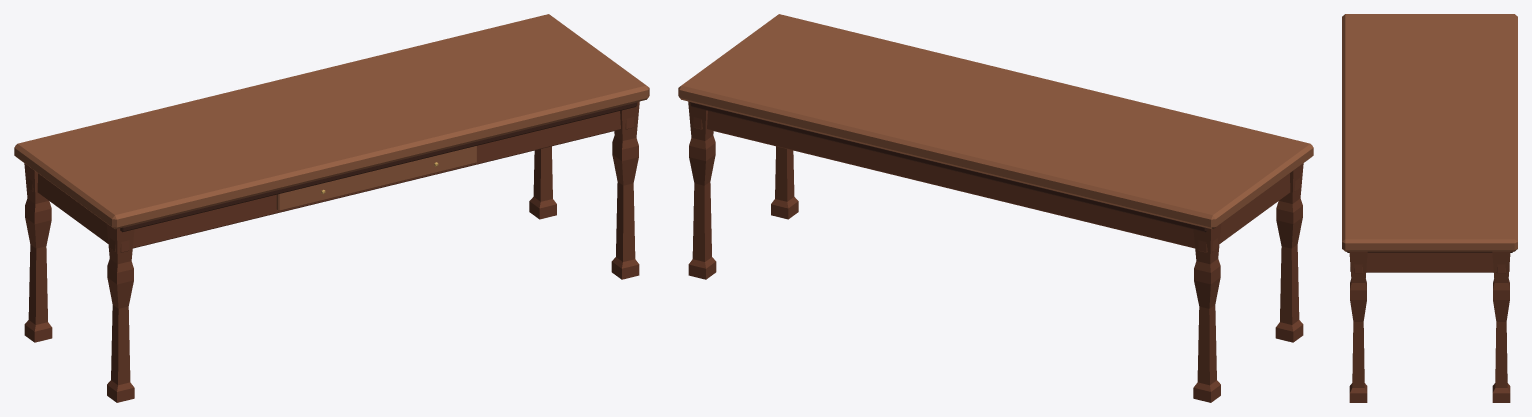
Rendered from table_04.glb.
3 views of the same model, side by side, from view 1: azimuth 30°, elevation 25°; view 2: azimuth 150°, elevation 25°; view 3: azimuth 270°, elevation 25° (orthographic). The views are drawn at different scales.
Parts seen in each view (by area): view 1: Top, Aprons, Leg_0_0, FrontDrawer, Leg_1_0, Leg_0_1, TopUndercut, Leg_1_1; view 2: Top, Aprons, Leg_0_1, Leg_1_1, Leg_0_0, TopUndercut, Leg_1_0; view 3: Top, Aprons, Leg_1_0, Leg_1_1, TopUndercut.
Part boxes in pixels (left/top/right/bottom): Top: left=14, top=14, right=649, bottom=229; Aprons: left=28, top=111, right=634, bottom=252; Leg_0_0: left=106, top=223, right=134, bottom=402; FrontDrawer: left=276, top=146, right=476, bottom=210; Leg_1_0: left=611, top=101, right=639, bottom=279; Leg_0_1: left=24, top=163, right=52, bottom=342; TopUndercut: left=120, top=102, right=637, bottom=232; Leg_1_1: left=529, top=146, right=556, bottom=219; Top: left=678, top=14, right=1313, bottom=229; Aprons: left=693, top=111, right=1299, bottom=252; Leg_0_1: left=1193, top=223, right=1221, bottom=402; Leg_1_1: left=688, top=101, right=716, bottom=279; Leg_0_0: left=1275, top=163, right=1303, bottom=342; TopUndercut: left=690, top=102, right=1207, bottom=232; Leg_1_0: left=771, top=146, right=798, bottom=219; Top: left=1342, top=14, right=1517, bottom=251; Aprons: left=1350, top=252, right=1509, bottom=273; Leg_1_0: left=1349, top=251, right=1367, bottom=402; Leg_1_1: left=1492, top=251, right=1510, bottom=402; TopUndercut: left=1346, top=251, right=1513, bottom=252.
Size of the model in its own units: 2.3 by 0.78 by 0.75.
